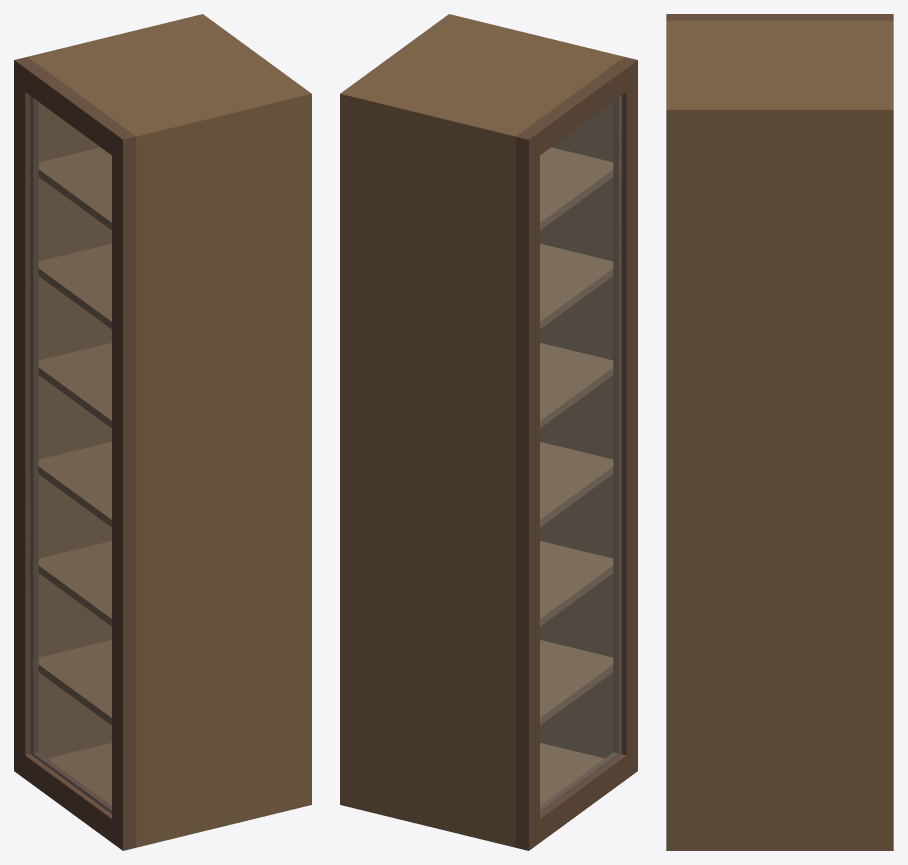
The model's file is glass_cabinet.fbx.
3 renders of one model, left to right at view 1: azimuth 30°, elevation 25°; view 2: azimuth 150°, elevation 25°; view 3: azimuth 270°, elevation 25°, orthographic. The views are drawn at different scales.
Visible parts, largest first — view 1: Cube.558; view 2: Cube.558; view 3: Cube.558.
Part boxes in pixels (<box>): Cube.558: <box>14,14,311,850</box>; Cube.558: <box>340,14,637,850</box>; Cube.558: <box>666,14,893,850</box>.
Bounding box in the file's own units: 50 × 180 × 50.
